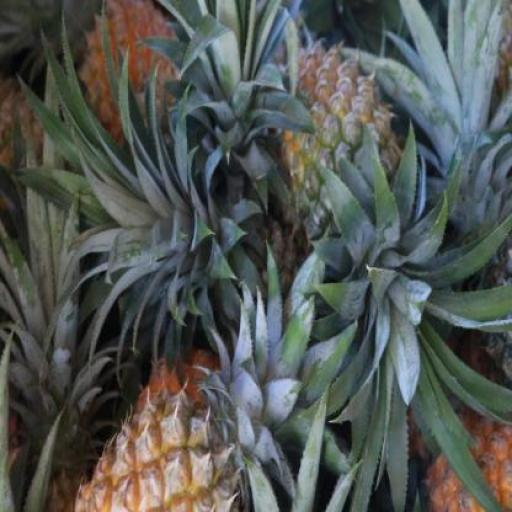------------------------------: (278, 40, 417, 250)
Pineapple - v8 v1: (72, 389, 252, 511)
